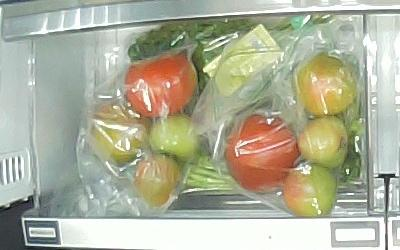tomato_vinyl: (225, 115, 301, 193), (124, 52, 199, 118), (294, 55, 356, 115), (93, 103, 150, 166), (283, 164, 338, 216), (297, 116, 347, 168), (134, 153, 182, 207), (149, 114, 201, 162)
